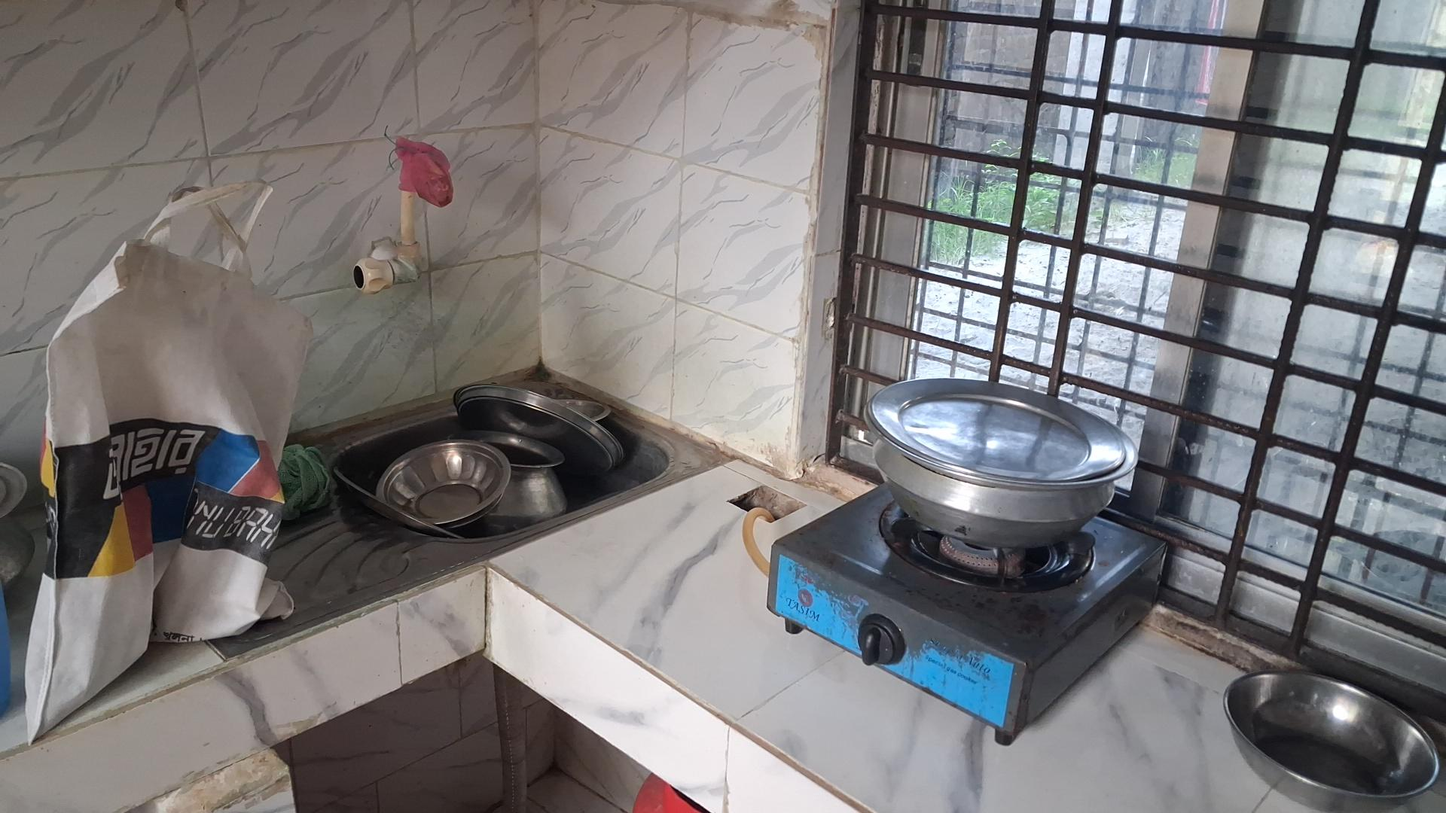Bag: (22, 200, 302, 748)
Bowl: (1229, 669, 1441, 809), (376, 438, 516, 531)
Pot: (870, 371, 1131, 553)
